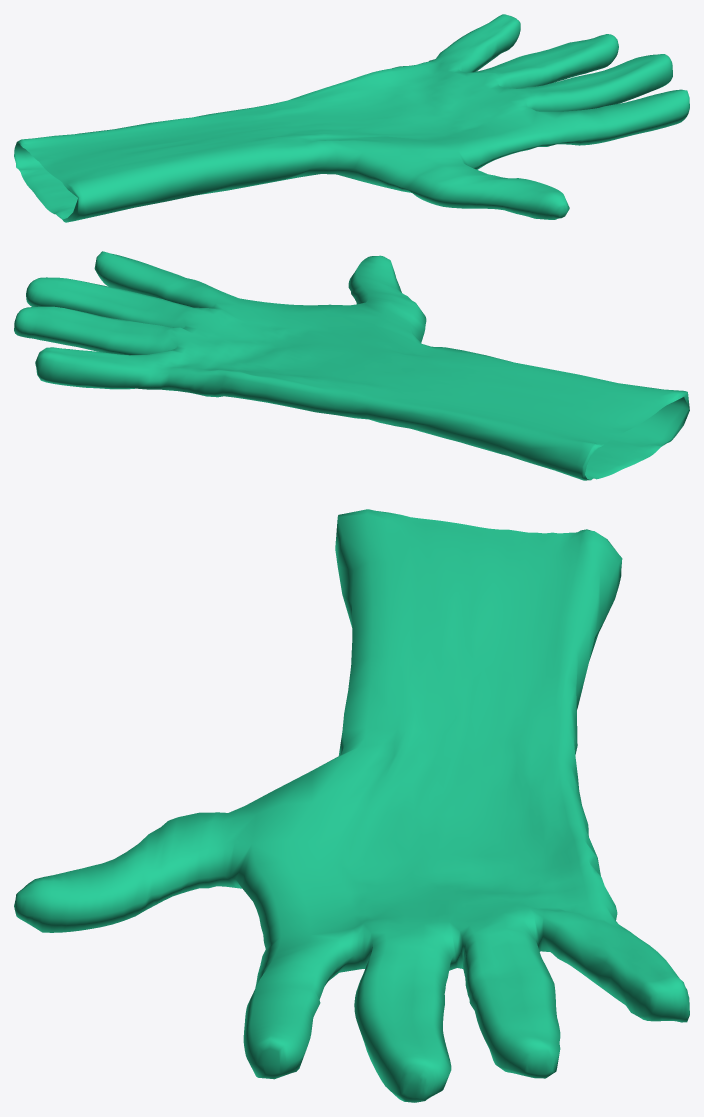
Rendered from glove.fbx.
3 views of the same model, one above another, from view 1: azimuth 30°, elevation 25°; view 2: azimuth 150°, elevation 25°; view 3: azimuth 270°, elevation 25° (orthographic). The views are drawn at different scales.
Parts seen in each view (by area): view 1: Cube.066; view 2: Cube.066; view 3: Cube.066.
Part boxes in pixels (bbox=[...]): Cube.066: bbox=[14, 14, 689, 222]; Cube.066: bbox=[14, 251, 689, 480]; Cube.066: bbox=[14, 509, 689, 1102].
Size of the model in its own units: 27.28 by 2.43 by 15.14.
